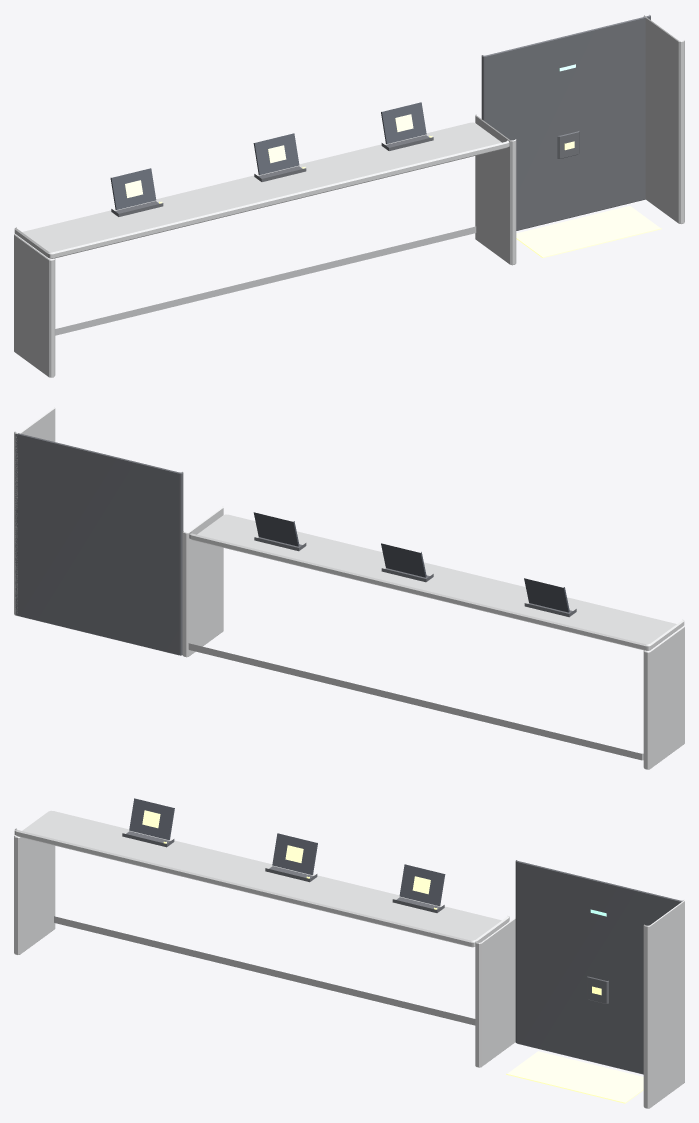
The model's file is iter_05.glb.
3 renders of one model, top to bottom at view 1: azimuth 30°, elevation 25°; view 2: azimuth 150°, elevation 25°; view 3: azimuth 330°, elevation 25°, orthographic.
Visible parts, largest first — view 1: Bay_Back, Desk_Top, End_Panels, Bay_Side, Bay_Floor_Pad, Data_Slates, Wall_Rail, Slate_Cradles, Slate_Glyphs; view 2: Bay_Back, Desk_Top, End_Panels, Wall_Rail, Data_Slates, Bay_Side, Slate_Cradles; view 3: Bay_Back, Desk_Top, End_Panels, Bay_Side, Bay_Floor_Pad, Data_Slates, Wall_Rail, Slate_Cradles, Slate_Glyphs, Sprocket_Port.
Part boxes in pixels (x1,y1,x2,y2): Bay_Back: [481, 15, 650, 230]; Desk_Top: [14, 122, 509, 258]; End_Panels: [14, 114, 516, 377]; Bay_Side: [643, 15, 684, 223]; Bay_Floor_Pad: [516, 205, 661, 257]; Data_Slates: [110, 102, 426, 209]; Wall_Rail: [55, 226, 476, 335]; Slate_Cradles: [111, 135, 433, 216]; Slate_Glyphs: [125, 114, 413, 197]; Bay_Back: [15, 432, 183, 655]; Desk_Top: [189, 514, 684, 650]; End_Panels: [182, 506, 684, 769]; Wall_Rail: [188, 643, 643, 760]; Data_Slates: [253, 512, 569, 612]; Bay_Side: [14, 407, 55, 615]; Slate_Cradles: [254, 537, 576, 617]; Bay_Back: [515, 860, 683, 1074]; Desk_Top: [14, 810, 509, 947]; End_Panels: [14, 835, 515, 1067]; Bay_Side: [643, 900, 684, 1108]; Bay_Floor_Pad: [506, 1051, 643, 1103]; Data_Slates: [129, 798, 445, 905]; Wall_Rail: [54, 916, 475, 1025]; Slate_Cradles: [122, 831, 444, 912]; Slate_Glyphs: [142, 810, 430, 894]; Sprocket_Port: [586, 976, 608, 1004].
Bounding box in the file's own units: 4 × 1.1 × 0.4.
